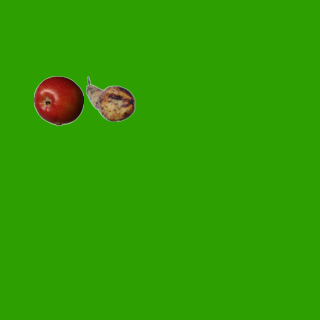Apple Braeburn: (33, 75, 83, 125)
Pear Abate: (85, 74, 135, 124)
